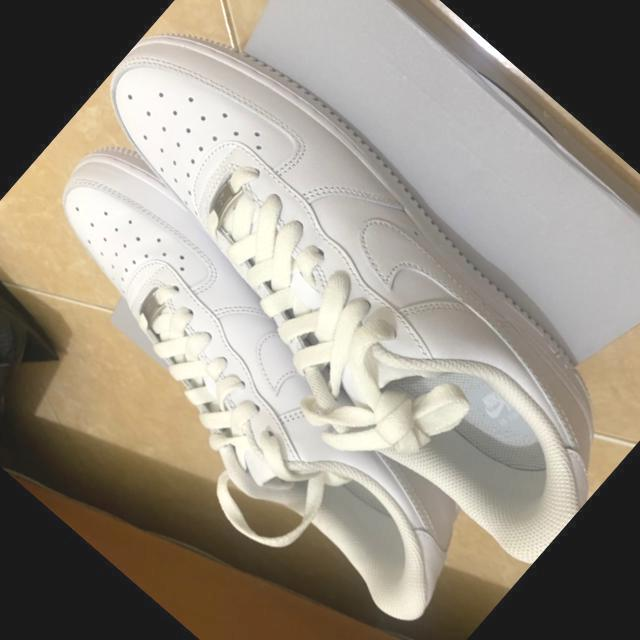nike_original_airforce: (34, 0, 640, 581), (0, 116, 536, 640)
